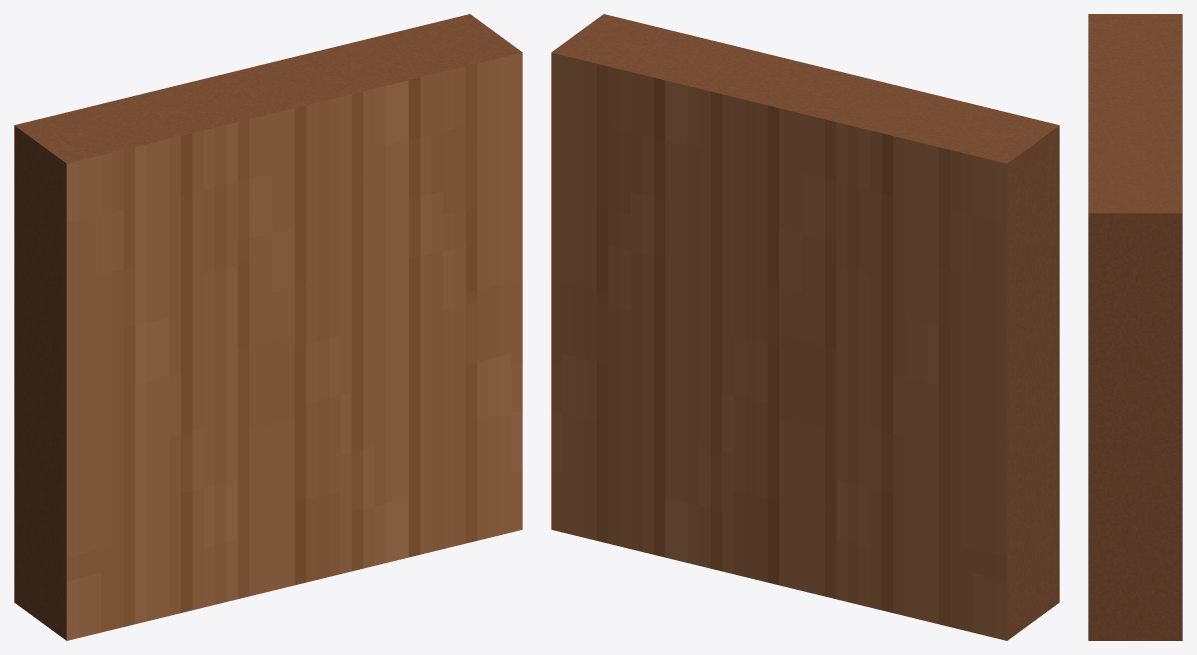
The model's file is Wall_Wood_Vertical_Finished_1x1.fbx.
3 views of the same model, side by side, from view 1: azimuth 30°, elevation 25°; view 2: azimuth 150°, elevation 25°; view 3: azimuth 270°, elevation 25° (orthographic). The views are drawn at different scales.
Parts seen in each view (by area): view 1: Wall_Wood_Vertical_Finished_1x1; view 2: Wall_Wood_Vertical_Finished_1x1; view 3: Wall_Wood_Vertical_Finished_1x1.
Boxes of the visible parts, bbox=[...] form: Wall_Wood_Vertical_Finished_1x1: bbox=[14, 14, 522, 640]; Wall_Wood_Vertical_Finished_1x1: bbox=[551, 14, 1059, 640]; Wall_Wood_Vertical_Finished_1x1: bbox=[1088, 14, 1182, 640].
Bounding box in the file's own units: 100 × 100 × 20.
2 materials, 2 textured.
